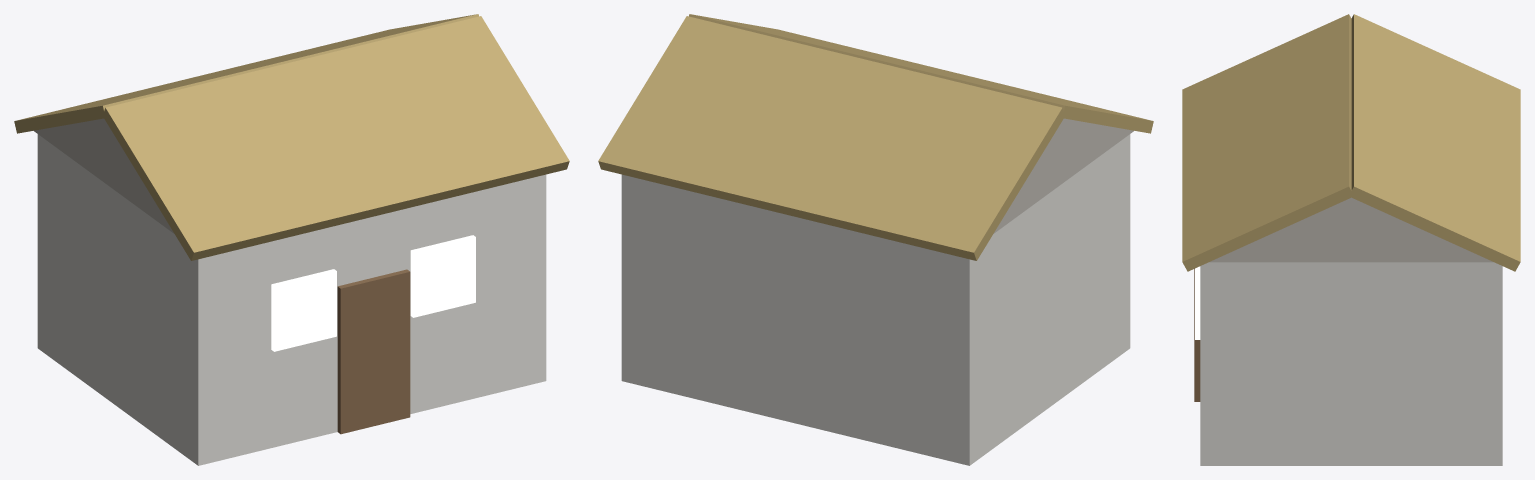
File: House.fbx
3 renders of one model, left to right at view 1: azimuth 30°, elevation 25°; view 2: azimuth 150°, elevation 25°; view 3: azimuth 270°, elevation 25°, orthographic. The views are drawn at different scales.
Visible parts, largest first — view 1: HouseBody, RoofA, Door, RoofB, Gable.House.L, HouseWindow1, HouseWindow2; view 2: HouseBody, RoofB, RoofA, Gable.House.L; view 3: HouseBody, RoofA, RoofB, Gable.House.R, Door, HouseWindow2.
Boxes of the visible parts, x1,y1,x2,y2 form: HouseBody: (37,134,546,465); RoofA: (102,16,569,260); Door: (337,269,410,434); RoofB: (14,14,478,133); Gable.House.L: (34,118,174,233); HouseWindow1: (271,269,336,351); HouseWindow2: (410,235,475,317); HouseBody: (621,134,1130,465); RoofB: (598,16,1063,260); RoofA: (689,14,1153,133); Gable.House.L: (993,118,1133,233); HouseBody: (1200,262,1502,465); RoofA: (1182,14,1353,271); RoofB: (1349,14,1520,271); Gable.House.R: (1209,197,1493,262); Door: (1194,268,1200,401); HouseWindow2: (1195,266,1200,339).
Bounding box in the file's own units: 540 × 417 × 448.
